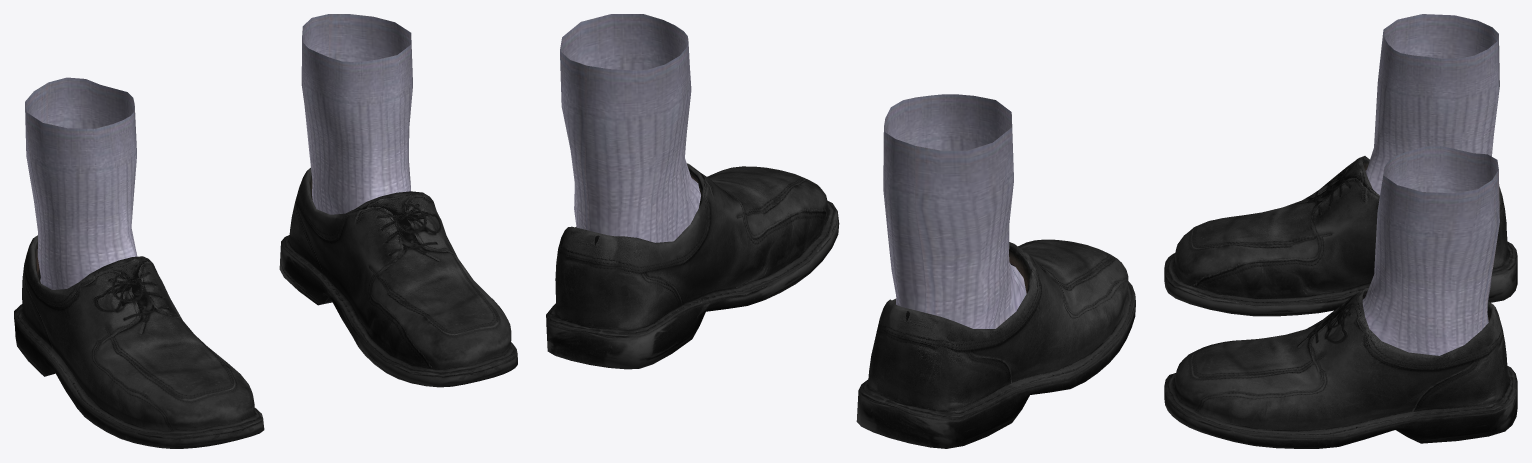
The model's file is shoes_black_formal.gltf.
3 renders of one model, left to right at view 1: azimuth 30°, elevation 25°; view 2: azimuth 150°, elevation 25°; view 3: azimuth 270°, elevation 25°, orthographic. The views are drawn at different scales.
Visible parts, largest first — view 1: shoes_black_formal; view 2: shoes_black_formal; view 3: shoes_black_formal.
Part boxes in pixels (x1,y1,x2,y2): shoes_black_formal: (14, 14, 517, 448); shoes_black_formal: (546, 14, 1135, 448); shoes_black_formal: (1164, 14, 1517, 448).
Size of the model in its own units: 0.3485 by 0.218 by 0.275.
Materials: 1 (1 with a texture image).
